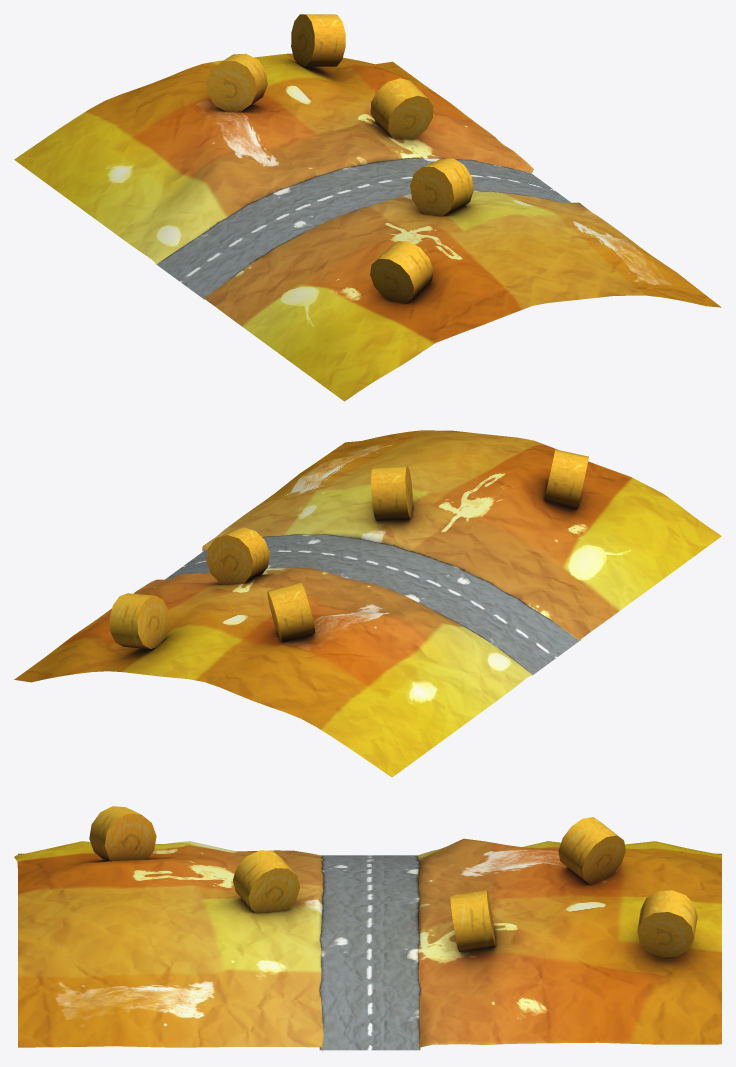
Rendered from modulo_campagna_C.FBX.
3 renders of one model, top to bottom at view 1: azimuth 30°, elevation 25°; view 2: azimuth 150°, elevation 25°; view 3: azimuth 270°, elevation 25°, orthographic. The views are drawn at different scales.
Parts seen in each view (by area): view 1: modulo_campagna_C_01, modulo_campagna_C_02; view 2: modulo_campagna_C_01, modulo_campagna_C_02; view 3: modulo_campagna_C_01, modulo_campagna_C_02.
Part boxes in pixels (<box>): modulo_campagna_C_01: <box>14,53,721,401</box>; modulo_campagna_C_02: <box>206,14,473,303</box>; modulo_campagna_C_01: <box>14,430,721,777</box>; modulo_campagna_C_02: <box>109,449,588,649</box>; modulo_campagna_C_01: <box>14,838,721,1051</box>; modulo_campagna_C_02: <box>89,806,697,957</box>.
Bounding box in the file's own units: 202 × 56.93 × 308.
